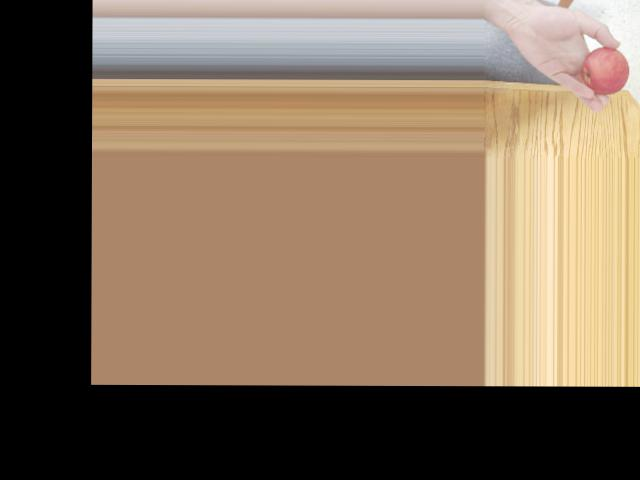apple: (579, 38, 630, 94)
